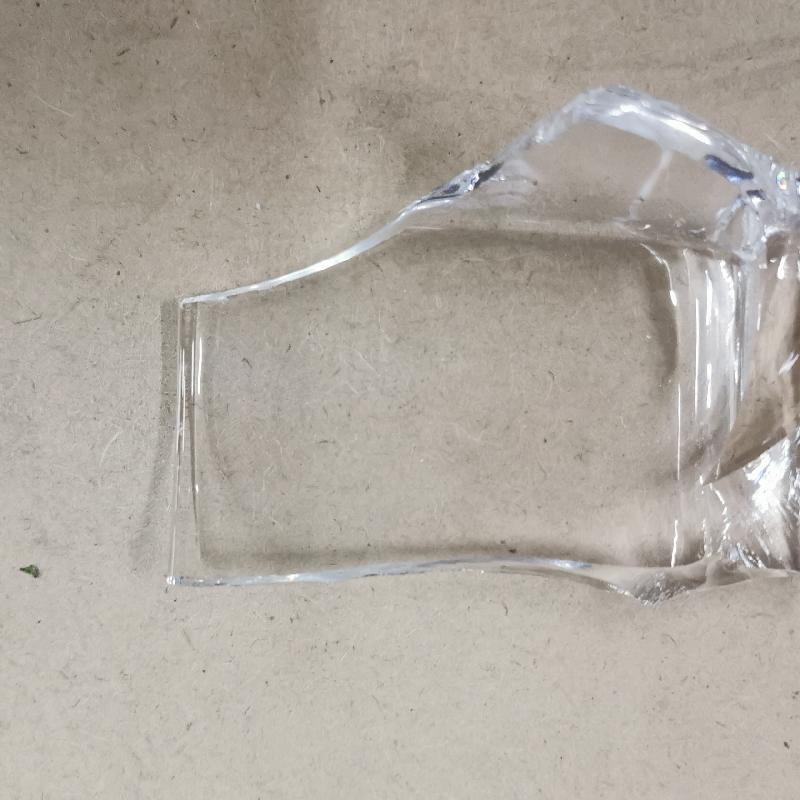glass: (145, 92, 800, 611)
